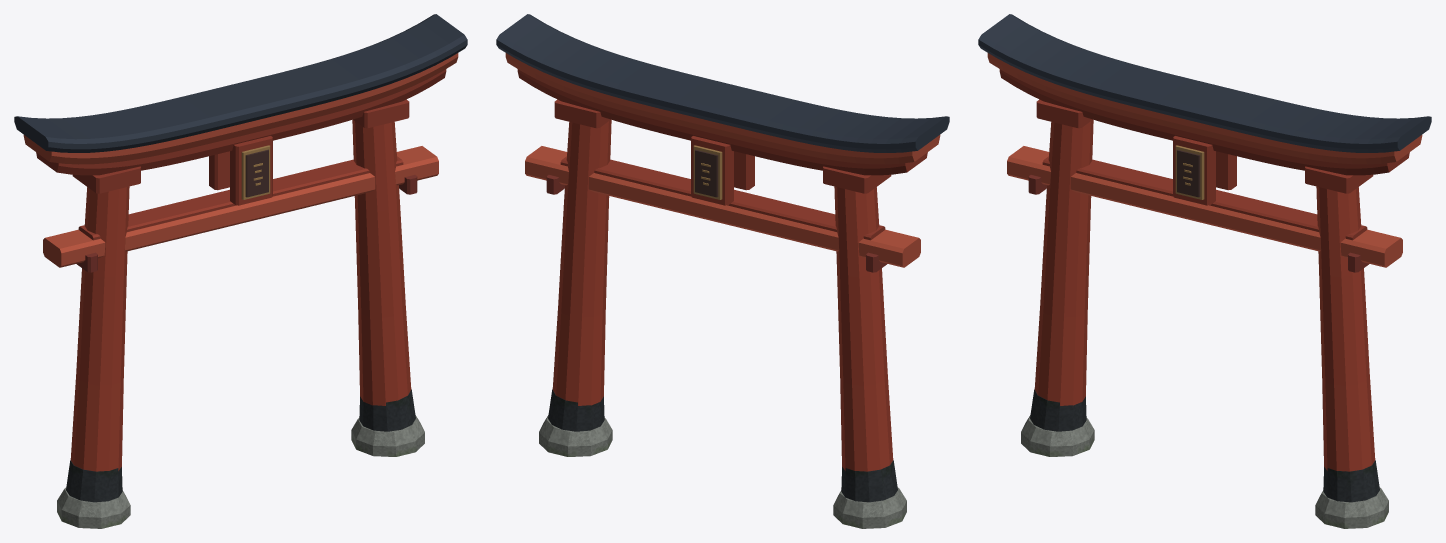
File: torii.glb
3 views of the same model, side by side, from view 1: azimuth 30°, elevation 25°; view 2: azimuth 150°, elevation 25°; view 3: azimuth 330°, elevation 25° (orthographic).
Visible parts, largest first — view 1: Splayed vermilion columns and tie beams, Swept lintel, rain cap and carved plaque, Stone shoes and dark post collars; view 2: Splayed vermilion columns and tie beams, Swept lintel, rain cap and carved plaque, Stone shoes and dark post collars; view 3: Splayed vermilion columns and tie beams, Swept lintel, rain cap and carved plaque, Stone shoes and dark post collars.
Boxes of the visible parts, x1,y1,x2,y2 form: Splayed vermilion columns and tie beams: (43,119,438,471); Swept lintel, rain cap and carved plaque: (14,14,467,205); Stone shoes and dark post collars: (57,389,424,528); Splayed vermilion columns and tie beams: (525,119,920,471); Swept lintel, rain cap and carved plaque: (496,14,949,205); Stone shoes and dark post collars: (539,389,906,528); Splayed vermilion columns and tie beams: (1007,119,1402,471); Swept lintel, rain cap and carved plaque: (978,14,1431,205); Stone shoes and dark post collars: (1021,389,1388,528).
Size of the model in its own units: 4.84 by 4.44 by 0.7038.
2 materials, 1 textured.
